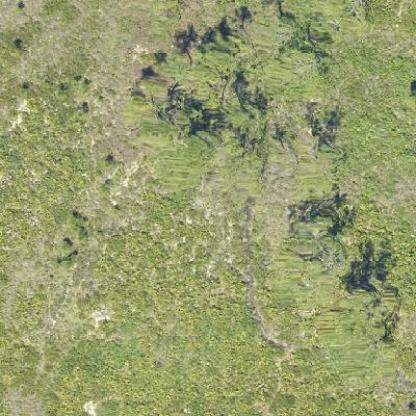tree-top: (273, 205, 341, 281), (164, 42, 240, 109), (144, 118, 216, 187), (335, 292, 407, 354)
